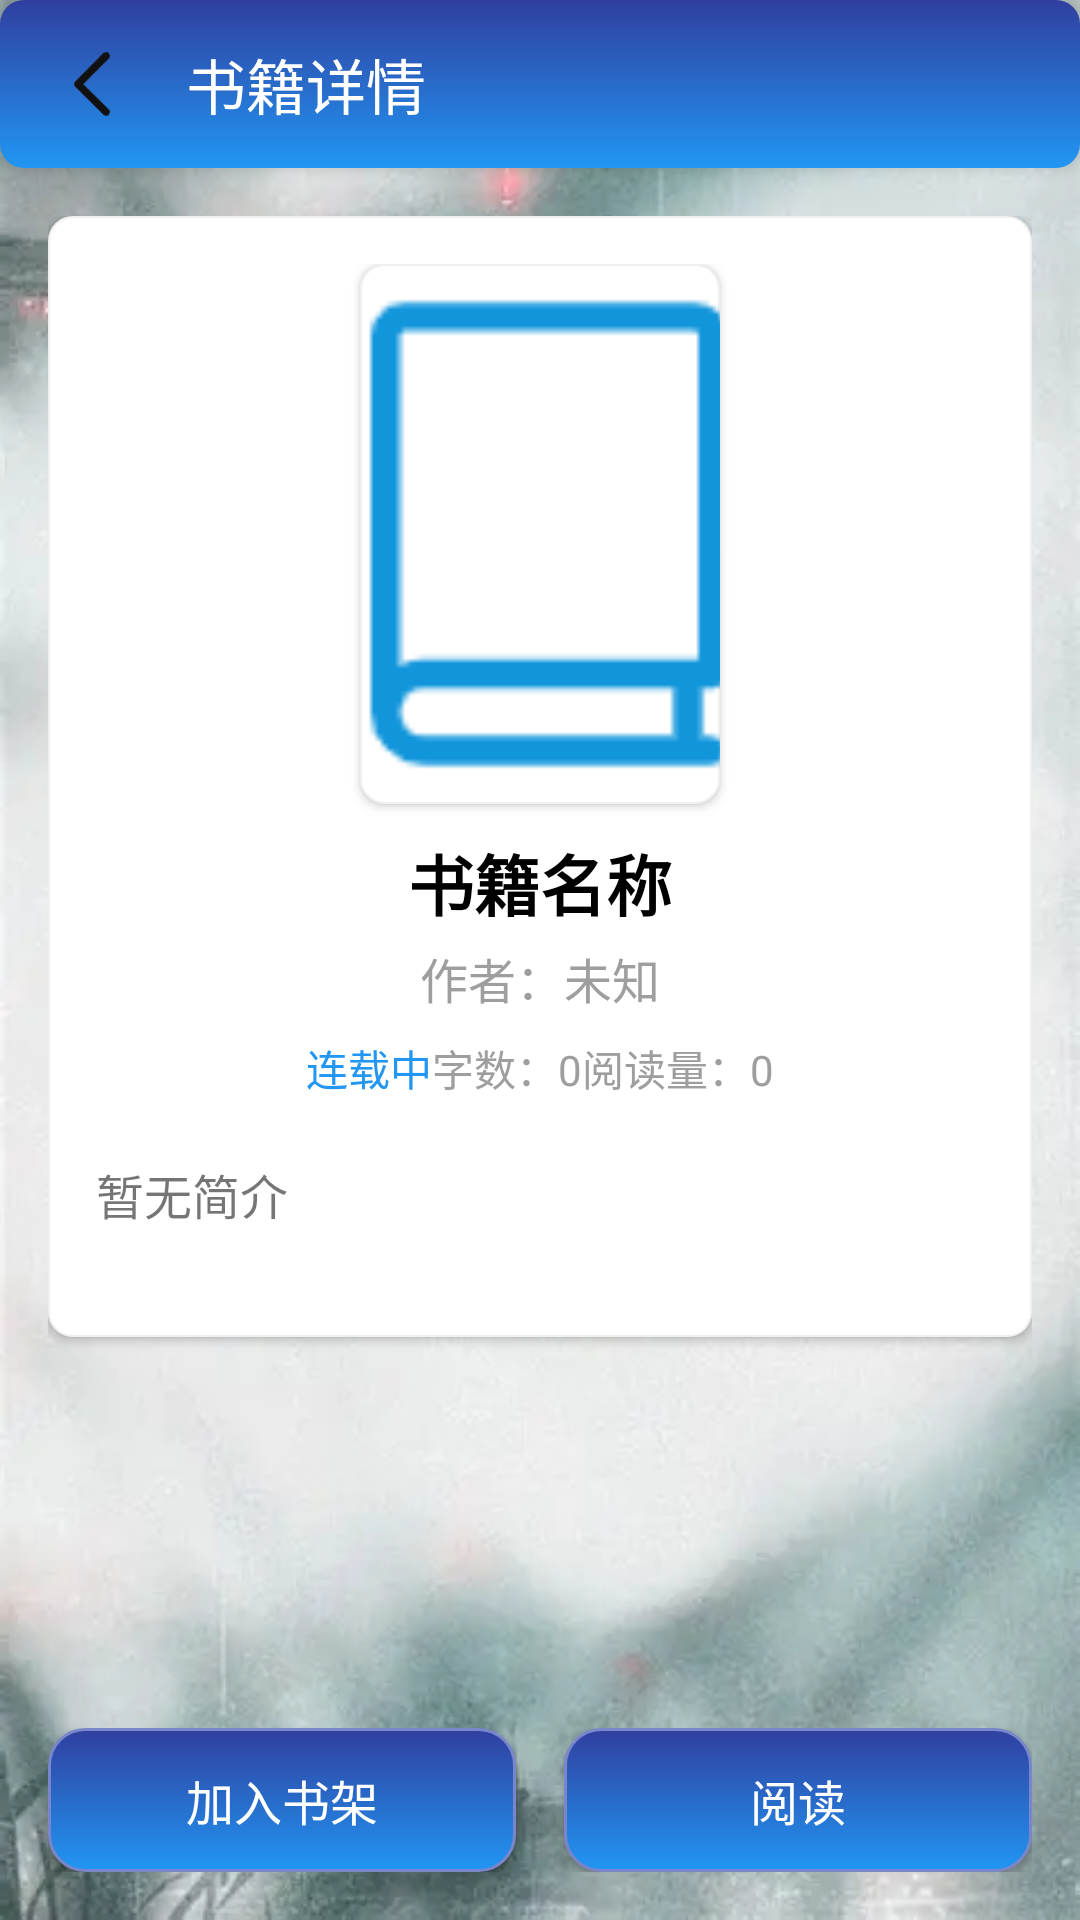

Where to tap for icons on this 1080*1920 app screen, as (x,y):
back: (93,84)
